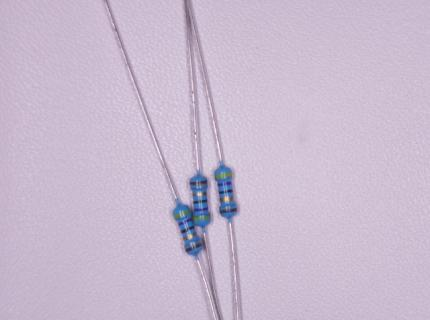Gold band: (183, 232, 197, 241), (220, 196, 234, 202), (193, 192, 207, 197)
Violet band: (178, 218, 192, 226), (218, 181, 232, 186), (194, 207, 208, 211)
Yellow band: (173, 209, 191, 219), (214, 172, 232, 178), (193, 215, 210, 220)
